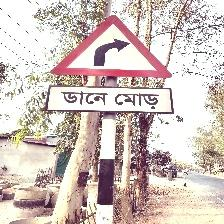Right-turn: (47, 13, 174, 119)
